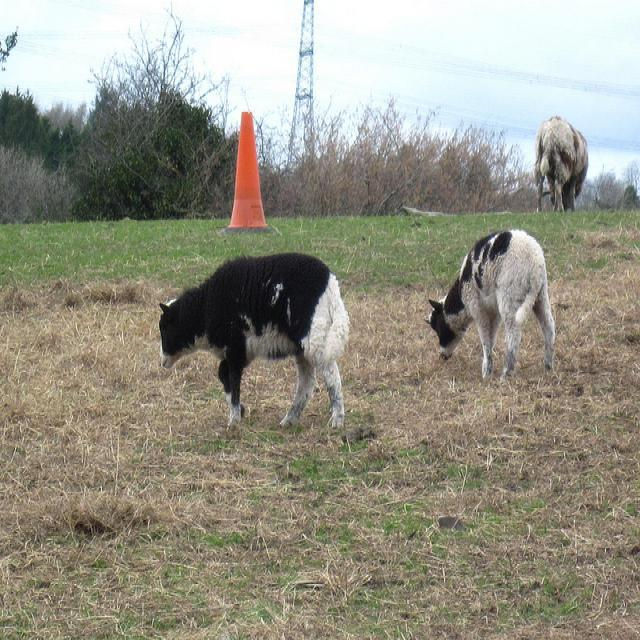cow: (155, 249, 348, 431), (421, 226, 554, 382), (532, 111, 588, 215)
